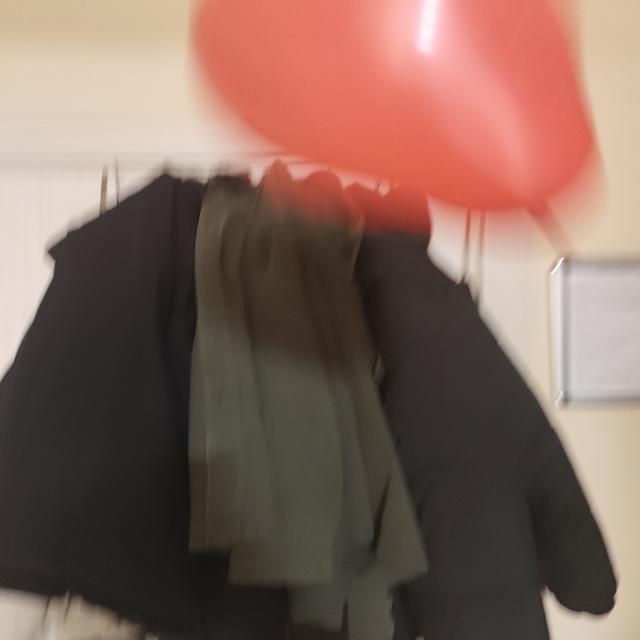balloon: (192, 0, 595, 211)
